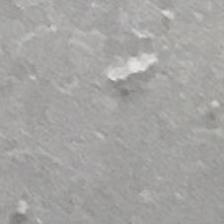Non_Crack: (31, 33, 224, 212)
